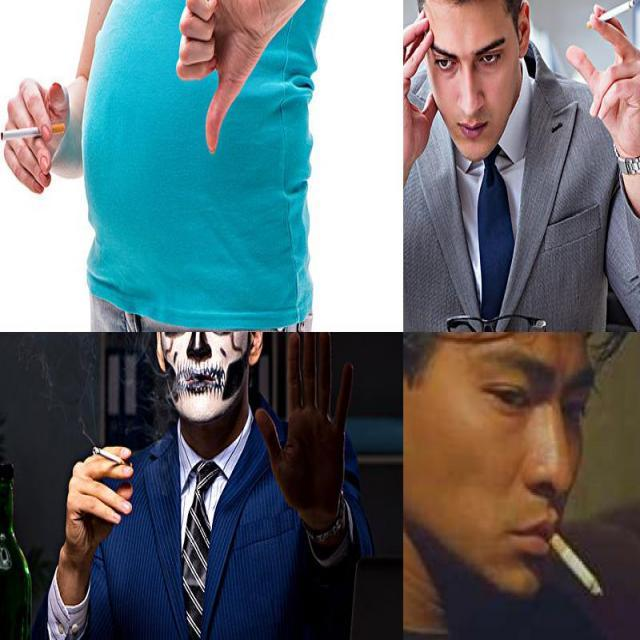cigarette: (540, 520, 602, 598), (585, 0, 637, 31), (0, 122, 66, 142), (92, 446, 134, 471)
